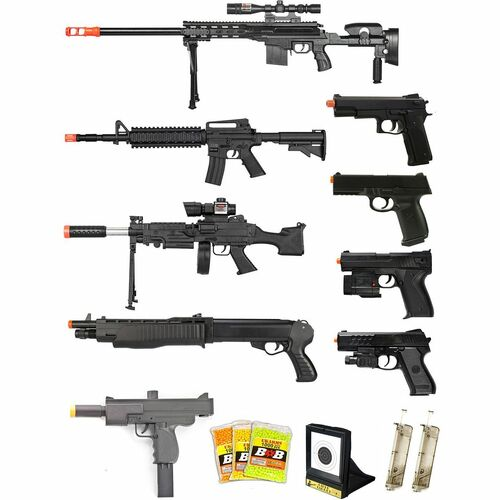Arma Falsa: (63, 3, 405, 83), (62, 199, 308, 294), (56, 114, 333, 183), (64, 315, 326, 385), (64, 390, 212, 500), (323, 169, 450, 245), (324, 93, 441, 168), (334, 330, 449, 400), (332, 249, 439, 322)
